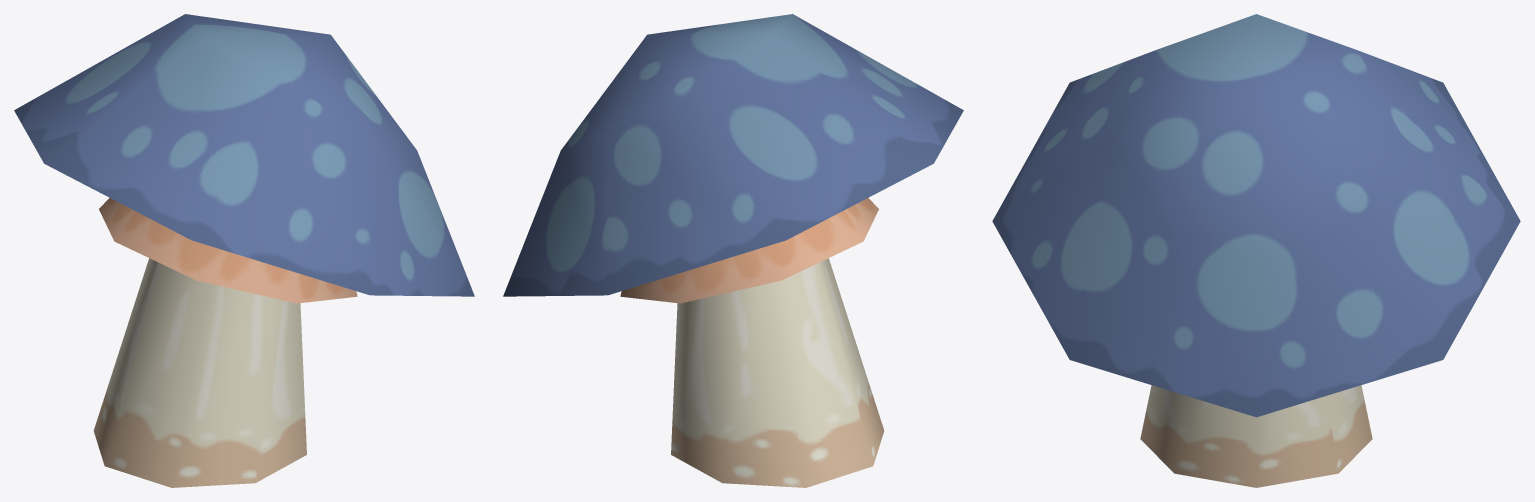
The model's file is cogumelo02.FBX.
3 views of the same model, side by side, from view 1: azimuth 30°, elevation 25°; view 2: azimuth 150°, elevation 25°; view 3: azimuth 270°, elevation 25° (orthographic). The views are drawn at different scales.
Visible parts, largest first — view 1: cogumelo02; view 2: cogumelo02; view 3: cogumelo02.
Part boxes in pixels (left/top/right/bottom): cogumelo02: left=14, top=14, right=474, bottom=487; cogumelo02: left=503, top=14, right=963, bottom=487; cogumelo02: left=992, top=14, right=1520, bottom=487.
Size of the model in its own units: 31.62 by 30.64 by 34.33.
